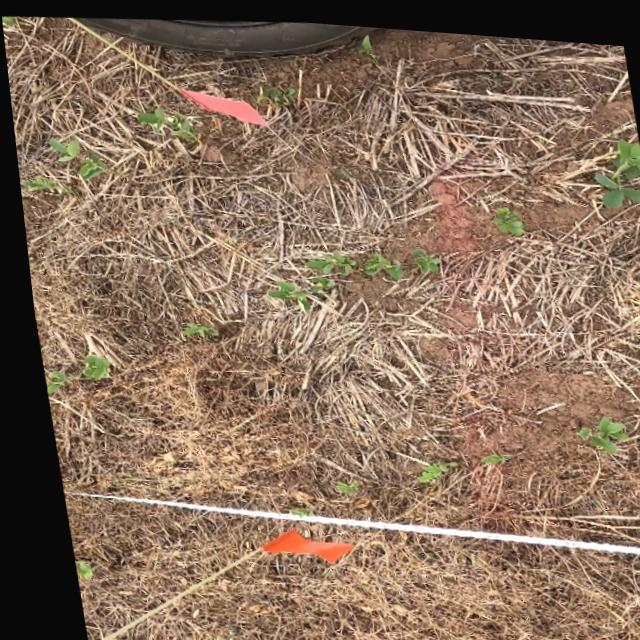soy_plant: (261, 247, 398, 306), (592, 130, 640, 199), (38, 353, 100, 396), (46, 138, 104, 179), (132, 105, 196, 139), (570, 409, 618, 444), (489, 199, 519, 228), (253, 84, 293, 103), (405, 243, 434, 269), (407, 457, 444, 475), (17, 177, 57, 190), (176, 320, 209, 334), (323, 476, 347, 490), (470, 446, 499, 457), (64, 560, 78, 577), (362, 32, 371, 51), (1, 17, 13, 26)
